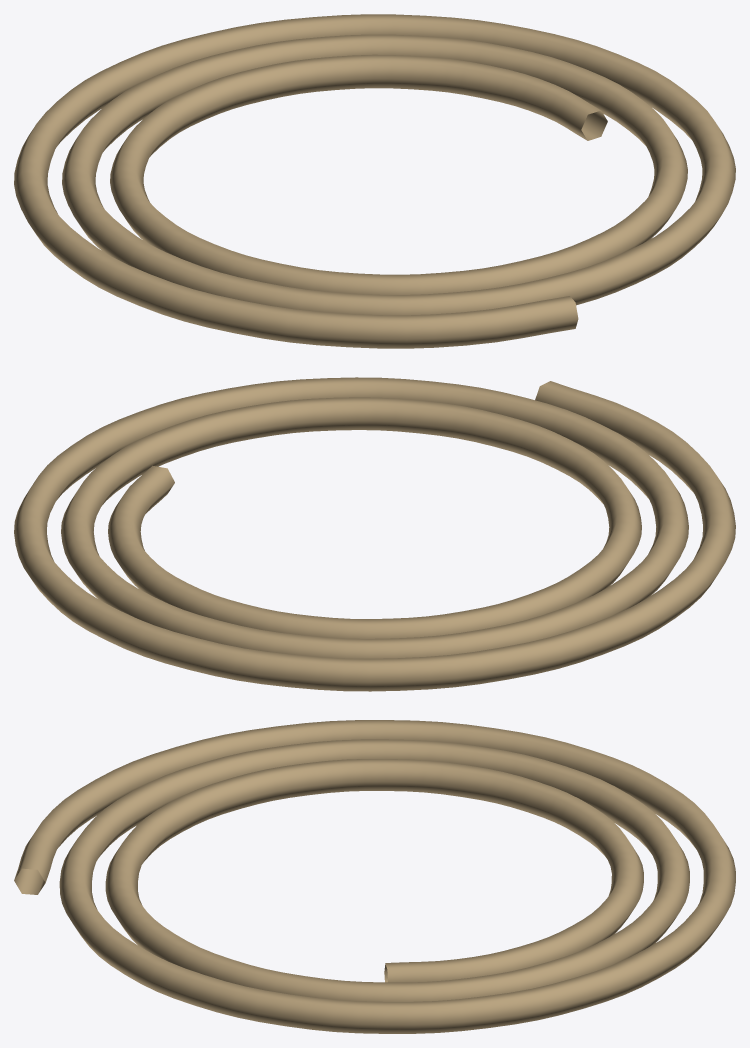
File: cord-loose-coil.glb
The picture shows the model from 3 angles, top to bottom: view 1: azimuth 30°, elevation 25°; view 2: azimuth 150°, elevation 25°; view 3: azimuth 270°, elevation 25°; orthographic projection. The views are drawn at different scales.
Parts seen in each view (by area): view 1: cord-loose-coil runtime mesh; view 2: cord-loose-coil runtime mesh; view 3: cord-loose-coil runtime mesh.
Part boxes in pixels (x1=…): cord-loose-coil runtime mesh: x1=14, y1=14, x2=735, y2=348; cord-loose-coil runtime mesh: x1=14, y1=377, x2=735, y2=691; cord-loose-coil runtime mesh: x1=14, y1=720, x2=735, y2=1033.
Size of the model in its own units: 0.304 by 0.0121 by 0.3139.
